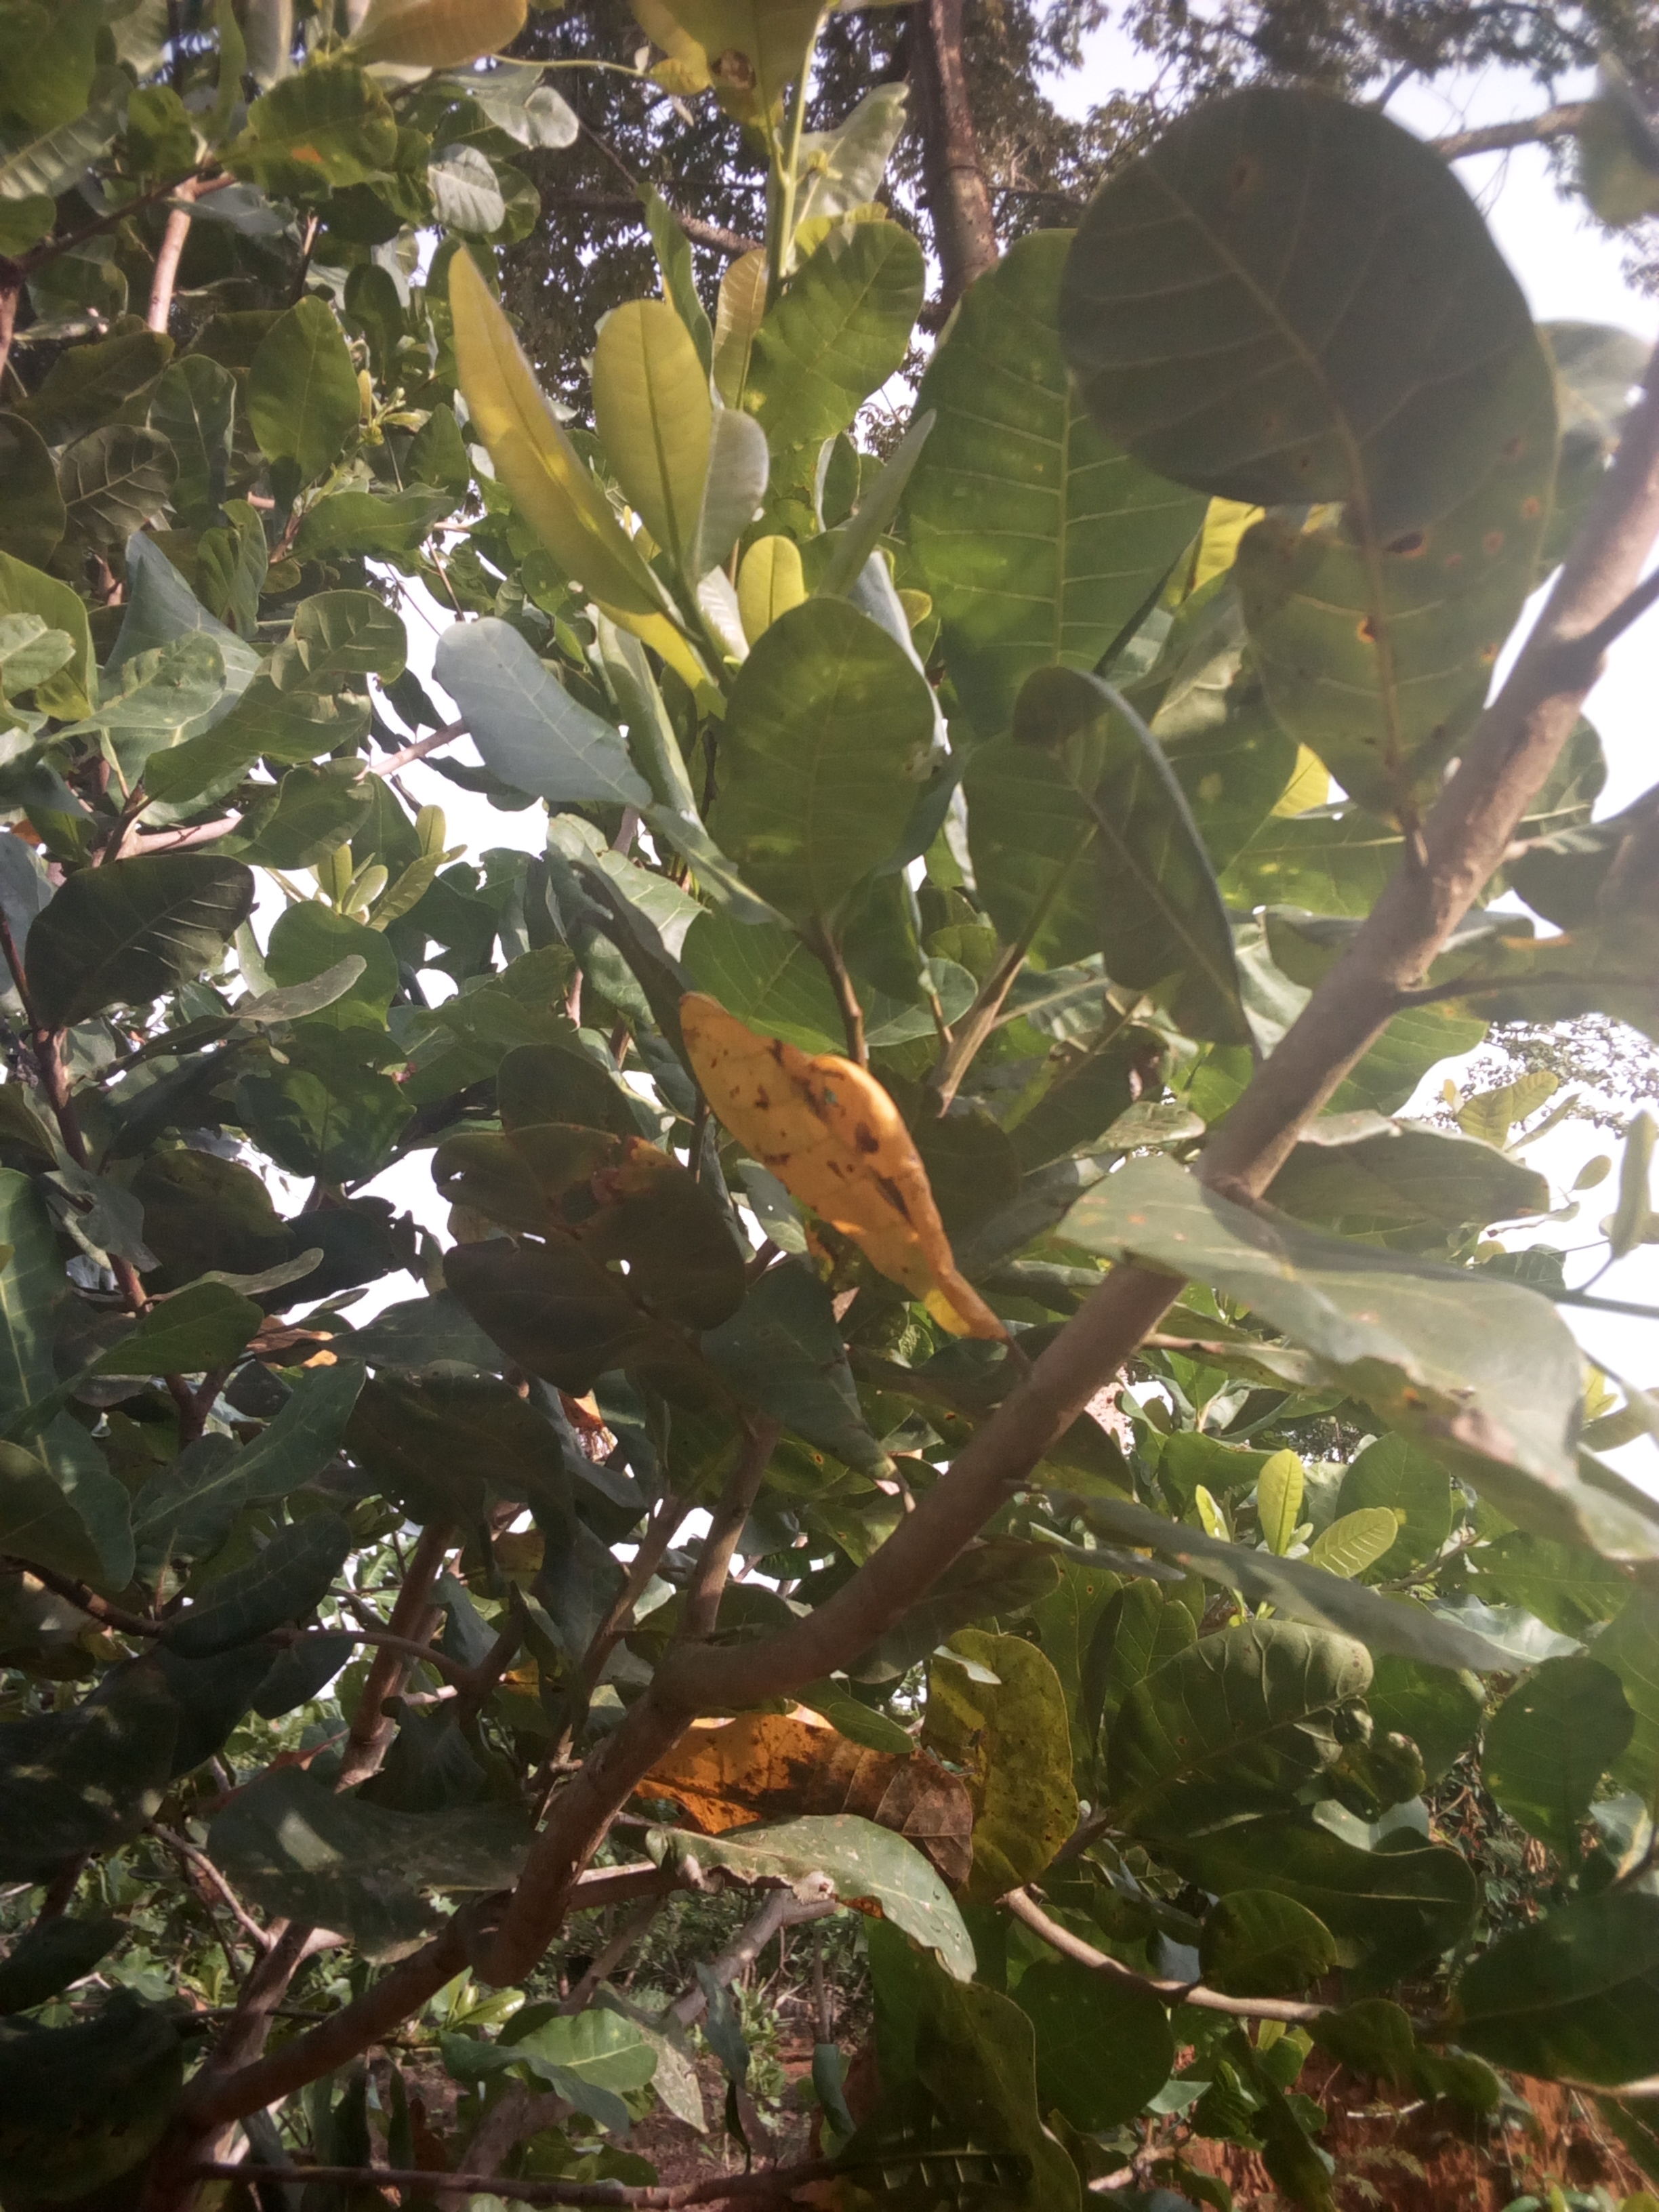Pestalotiose: (1046, 82, 1554, 787)
